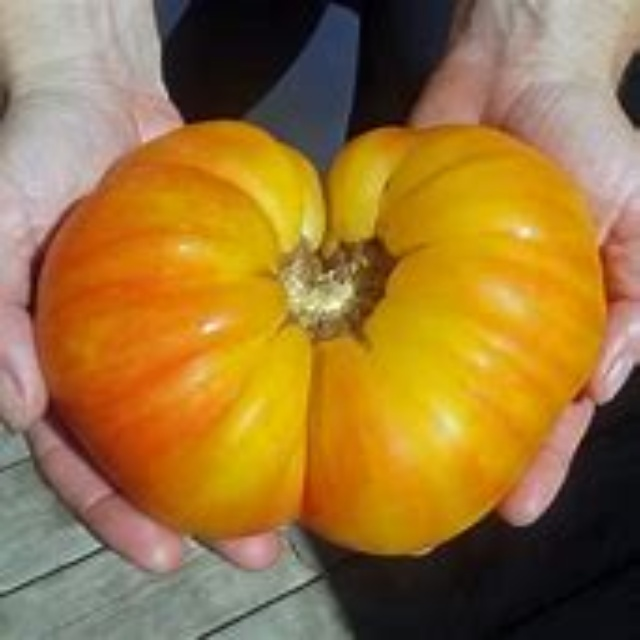tomato: (38, 124, 593, 553)
